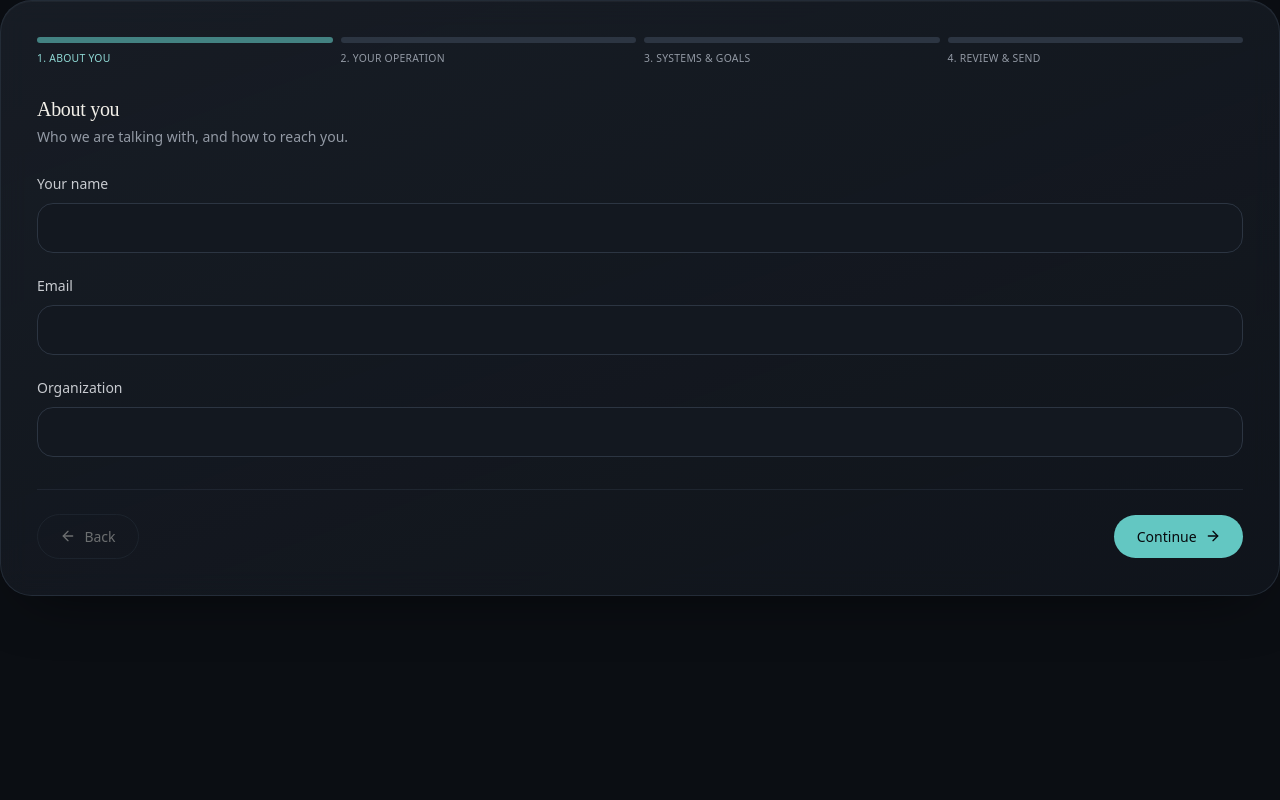
Test case: AssessmentForm › advances to step two once step-one fields validate
The image size is (1280, 800).
Type "Avery Example" into the field labelled "Your name" at (640, 228), box 37,203 -> 1243,253
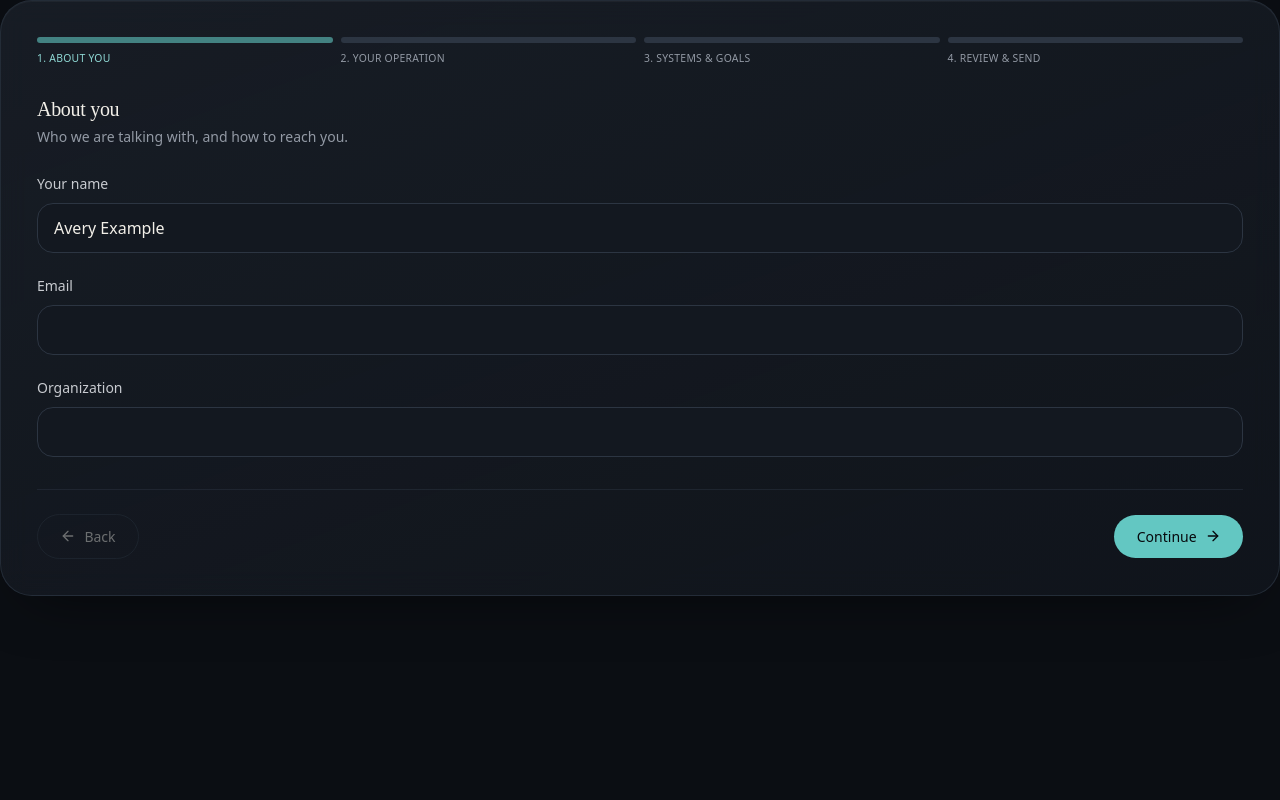
Type "avery@example.com" into the field labelled "Email" at (640, 330), box 37,305 -> 1243,355
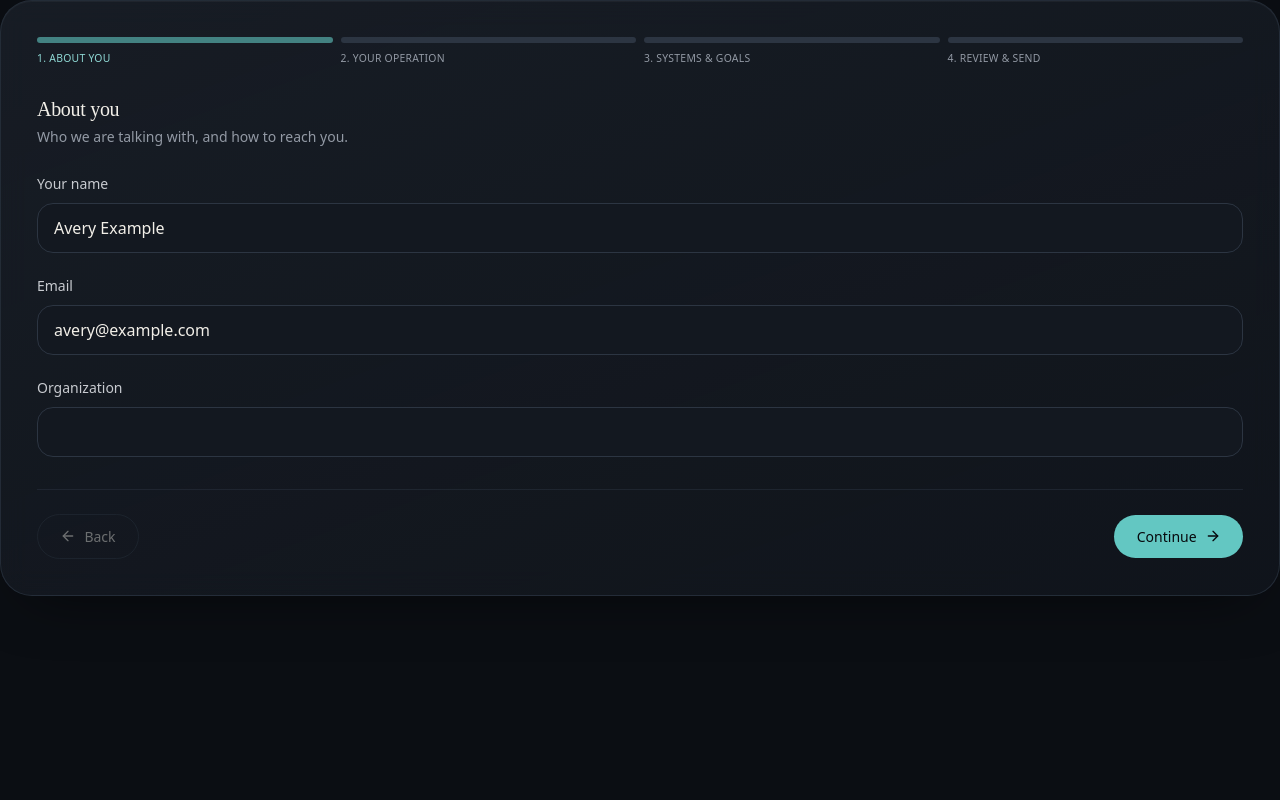
Type "Example House" into the field labelled "Organization" at (640, 432), box 37,407 -> 1243,457
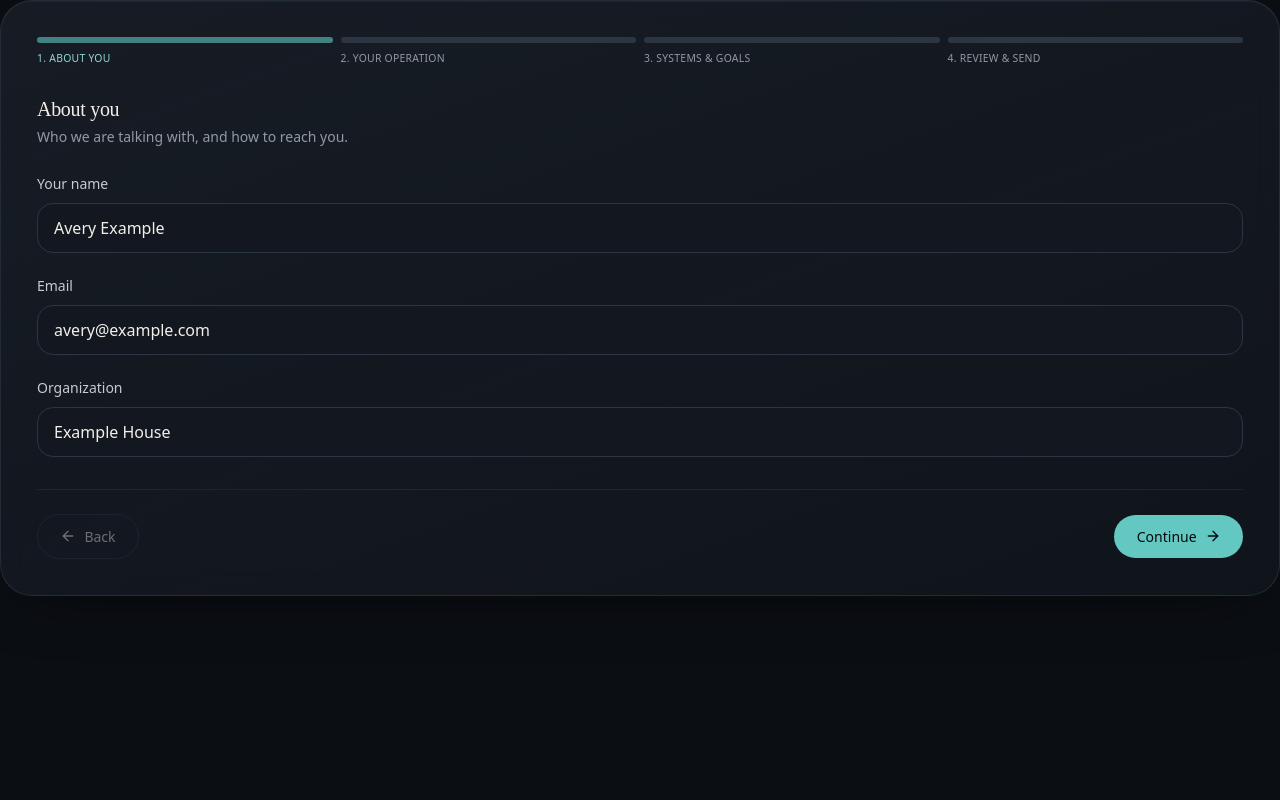
Click the button "Continue" at (1179, 536), box 1114,515 -> 1243,558
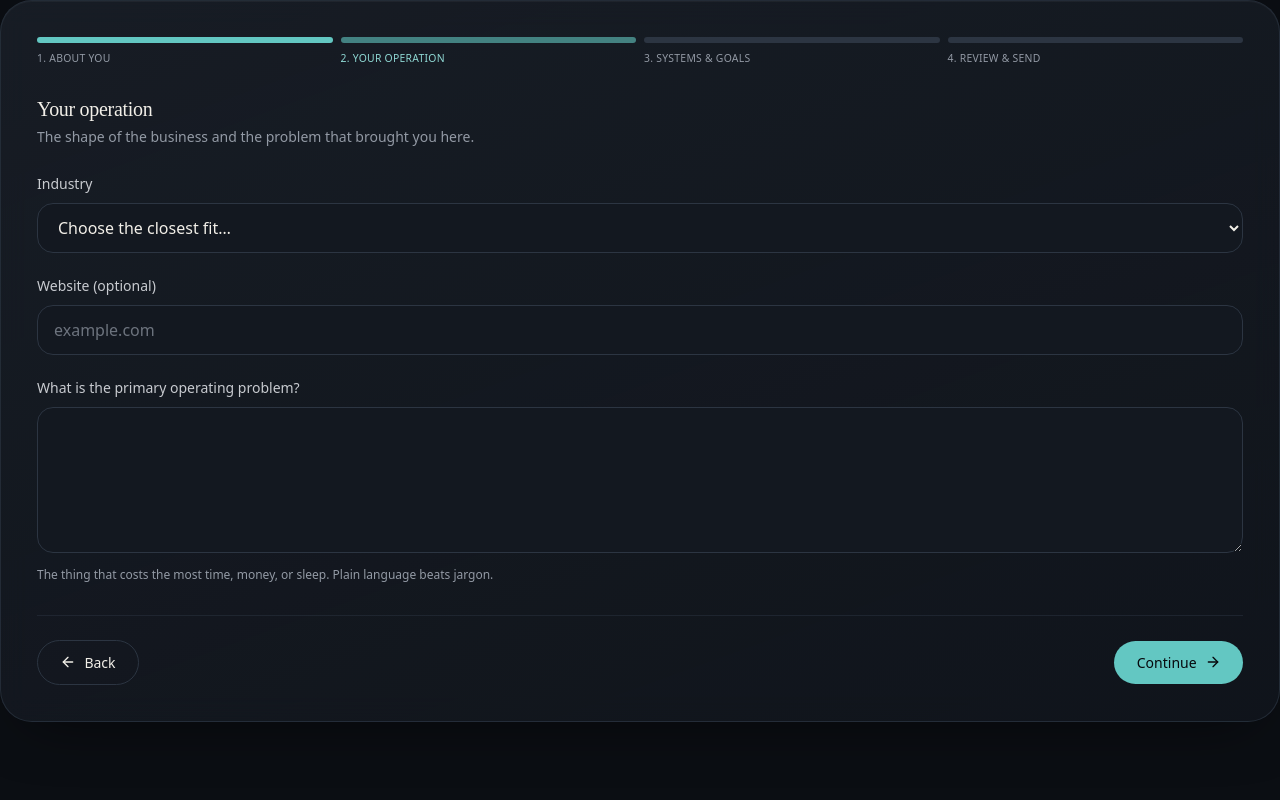
Now the heading "Your operation" is shown, box 37,98 -> 152,120
